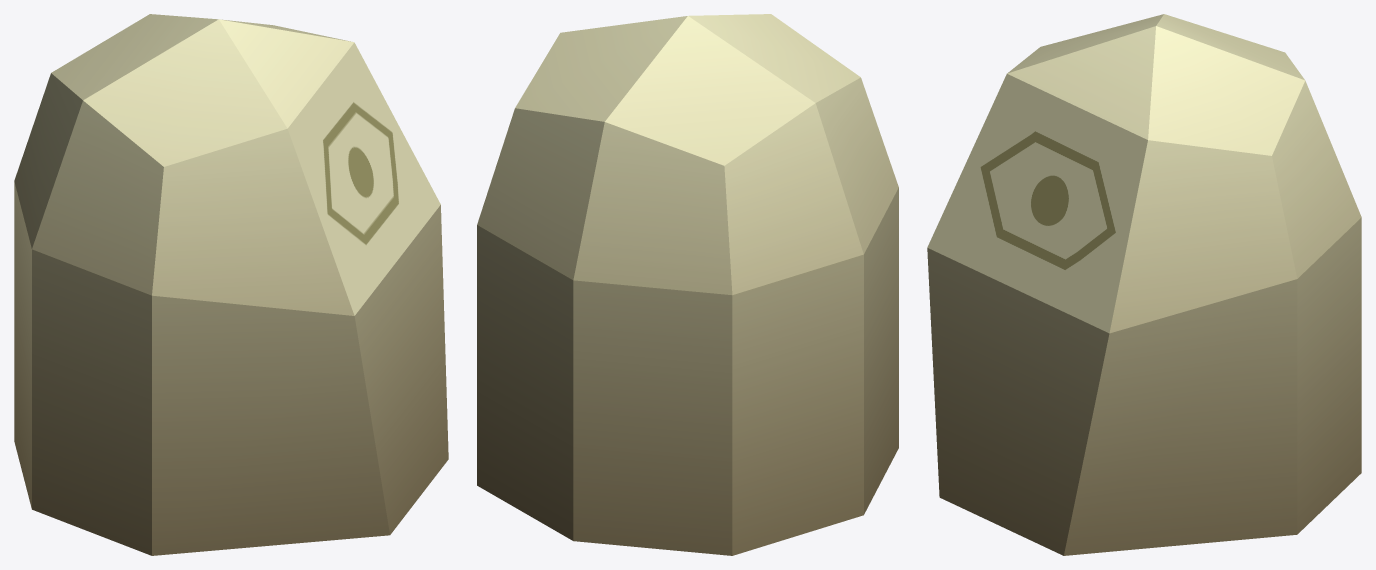
The model's file is Pushing_Rock.fbx.
3 renders of one model, left to right at view 1: azimuth 30°, elevation 25°; view 2: azimuth 150°, elevation 25°; view 3: azimuth 270°, elevation 25°, orthographic.
Visible parts, largest first — view 1: Cube; view 2: Cube; view 3: Cube.
Part boxes in pixels (x1,y1,x2,y2): Cube: (14, 14, 448, 555); Cube: (477, 14, 898, 555); Cube: (927, 14, 1361, 555).
Bounding box in the file's own units: 328 × 372 × 331.
